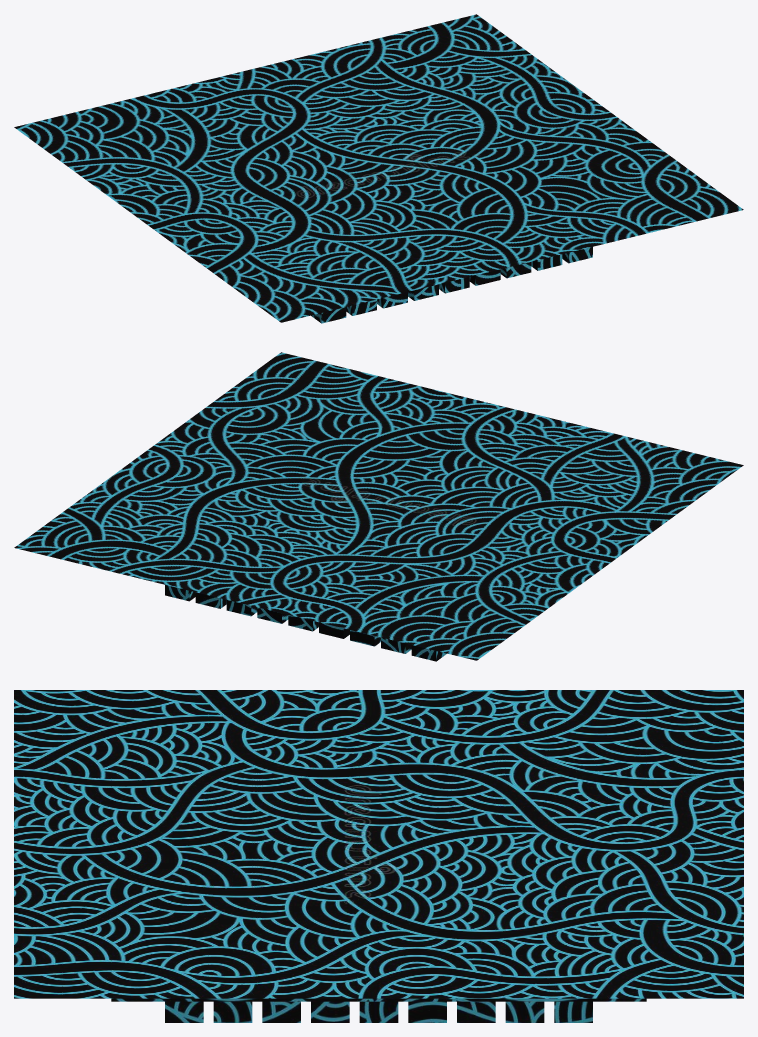
File: ThirdLevelPanel.fbx
3 renders of one model, top to bottom at view 1: azimuth 30°, elevation 25°; view 2: azimuth 150°, elevation 25°; view 3: azimuth 270°, elevation 25°, orthographic. The views are drawn at different scales.
Parts seen in each view (by area): view 1: ThirdtLevel, ThirdLevelPlatform, First, Eighth, Fifth, Fourth, Nineth, Sixth, Seventh, Second, Third; view 2: ThirdtLevel, ThirdLevelPlatform, First, Eighth, Fifth, Fourth, Nineth, Sixth, Seventh, Second, Third; view 3: ThirdtLevel, ThirdLevelPlatform, Nineth, First, Eighth, Second, Fourth, Seventh, Third, Fifth, Sixth.
Boxes of the visible parts, bbox=[...] form: ThirdtLevel: bbox=[14, 14, 743, 322]; ThirdLevelPlatform: bbox=[111, 55, 646, 281]; First: bbox=[165, 138, 346, 323]; Eighth: bbox=[381, 85, 562, 270]; Fifth: bbox=[288, 108, 469, 293]; Fourth: bbox=[258, 116, 438, 300]; Nineth: bbox=[412, 78, 592, 263]; Sixth: bbox=[319, 100, 500, 285]; Seventh: bbox=[350, 93, 531, 278]; Second: bbox=[196, 131, 376, 315]; Third: bbox=[227, 123, 407, 308]; ThirdtLevel: bbox=[14, 352, 743, 660]; ThirdLevelPlatform: bbox=[111, 393, 646, 619]; First: bbox=[411, 476, 592, 661]; Eighth: bbox=[195, 423, 376, 608]; Fifth: bbox=[288, 446, 469, 631]; Fourth: bbox=[319, 454, 499, 638]; Nineth: bbox=[165, 416, 345, 601]; Sixth: bbox=[257, 438, 438, 623]; Seventh: bbox=[226, 431, 407, 616]; Second: bbox=[381, 469, 561, 653]; Third: bbox=[350, 461, 530, 646]; ThirdtLevel: bbox=[14, 690, 743, 998]; ThirdLevelPlatform: bbox=[111, 731, 646, 1001]; Nineth: bbox=[165, 918, 592, 1022]; First: bbox=[165, 753, 592, 770]; Eighth: bbox=[165, 897, 592, 914]; Second: bbox=[165, 774, 592, 790]; Fourth: bbox=[165, 815, 592, 831]; Seventh: bbox=[165, 877, 592, 893]; Third: bbox=[165, 795, 592, 811]; Fifth: bbox=[165, 836, 592, 852]; Sixth: bbox=[165, 856, 592, 872].
Size of the model in its own units: 3000 by 400 by 3000.
